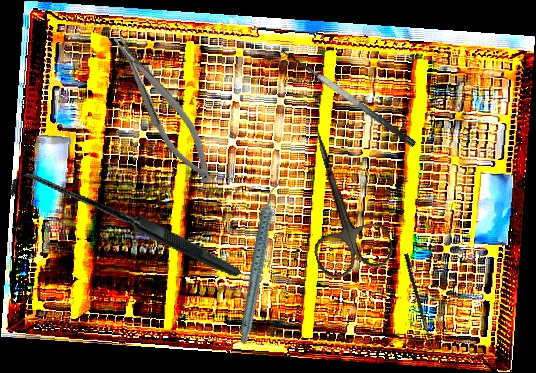Handpiece: (208, 180, 313, 345)
Hook Surgical: (5, 109, 242, 348), (402, 253, 441, 363)
Iris Scissors: (281, 118, 398, 283)
Needle Holder: (105, 25, 223, 191)
Spatula Surgical: (272, 41, 418, 160)
